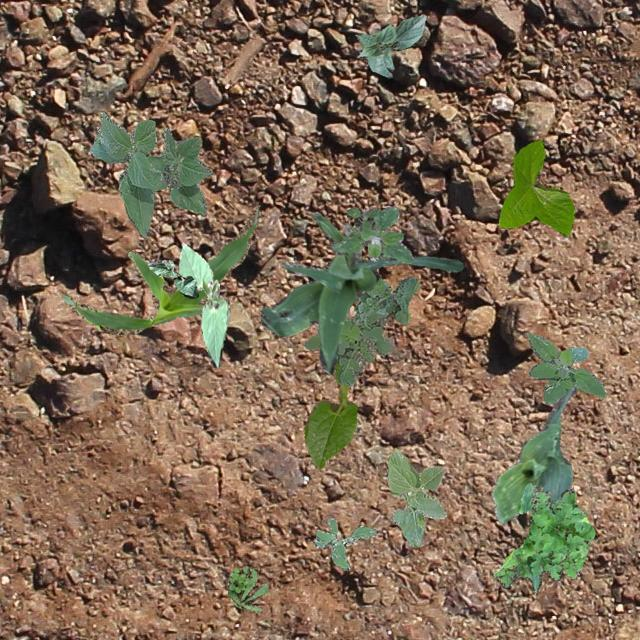crop: (260, 210, 462, 374), (61, 204, 260, 334), (88, 111, 212, 236), (490, 384, 576, 522), (498, 138, 574, 235), (178, 242, 228, 366), (386, 448, 446, 546), (304, 360, 356, 468), (354, 13, 426, 78), (146, 258, 198, 298)
weed: (302, 276, 418, 386), (492, 482, 594, 592), (526, 332, 604, 404), (330, 205, 412, 262), (313, 518, 377, 570), (226, 564, 266, 612)
